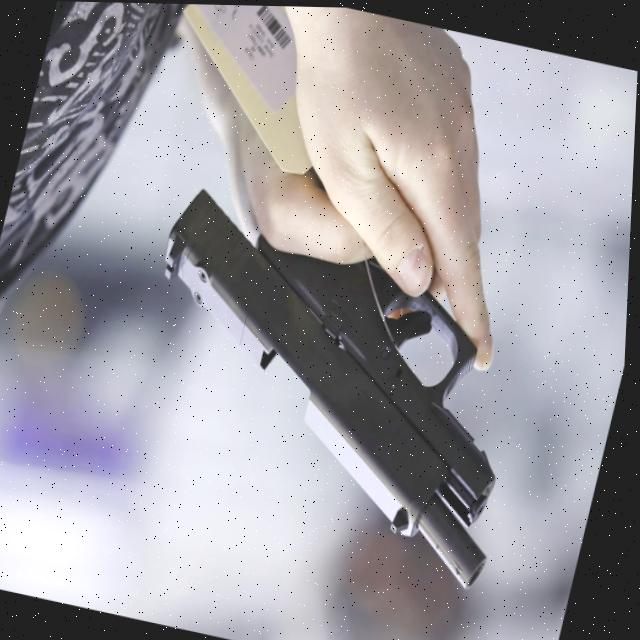pistol: (102, 181, 561, 590)
